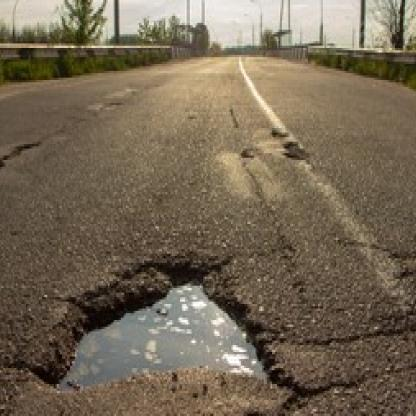pothole: (29, 252, 290, 393), (0, 137, 39, 233), (284, 140, 307, 163), (271, 128, 289, 139)
